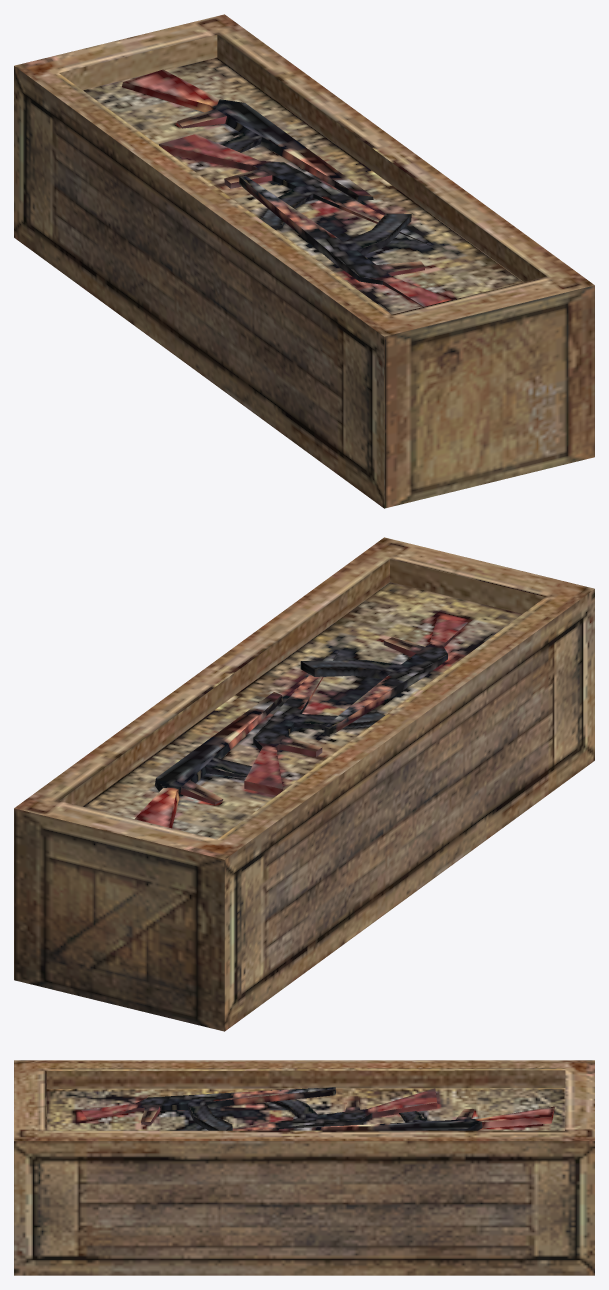
File: WpnCt2.glb
3 views of the same model, one above another, from view 1: azimuth 30°, elevation 25°; view 2: azimuth 150°, elevation 25°; view 3: azimuth 270°, elevation 25° (orthographic). The views are drawn at different scales.
Parts seen in each view (by area): view 1: _WpnCt2; view 2: _WpnCt2; view 3: _WpnCt2.
Part boxes in pixels (bbox=[...]): _WpnCt2: bbox=[14, 14, 594, 508]; _WpnCt2: bbox=[14, 537, 594, 1031]; _WpnCt2: bbox=[14, 1060, 594, 1275].
Bounding box in the file's own units: 0.6414 × 0.4998 × 1.95.
1 material, 1 textured.
